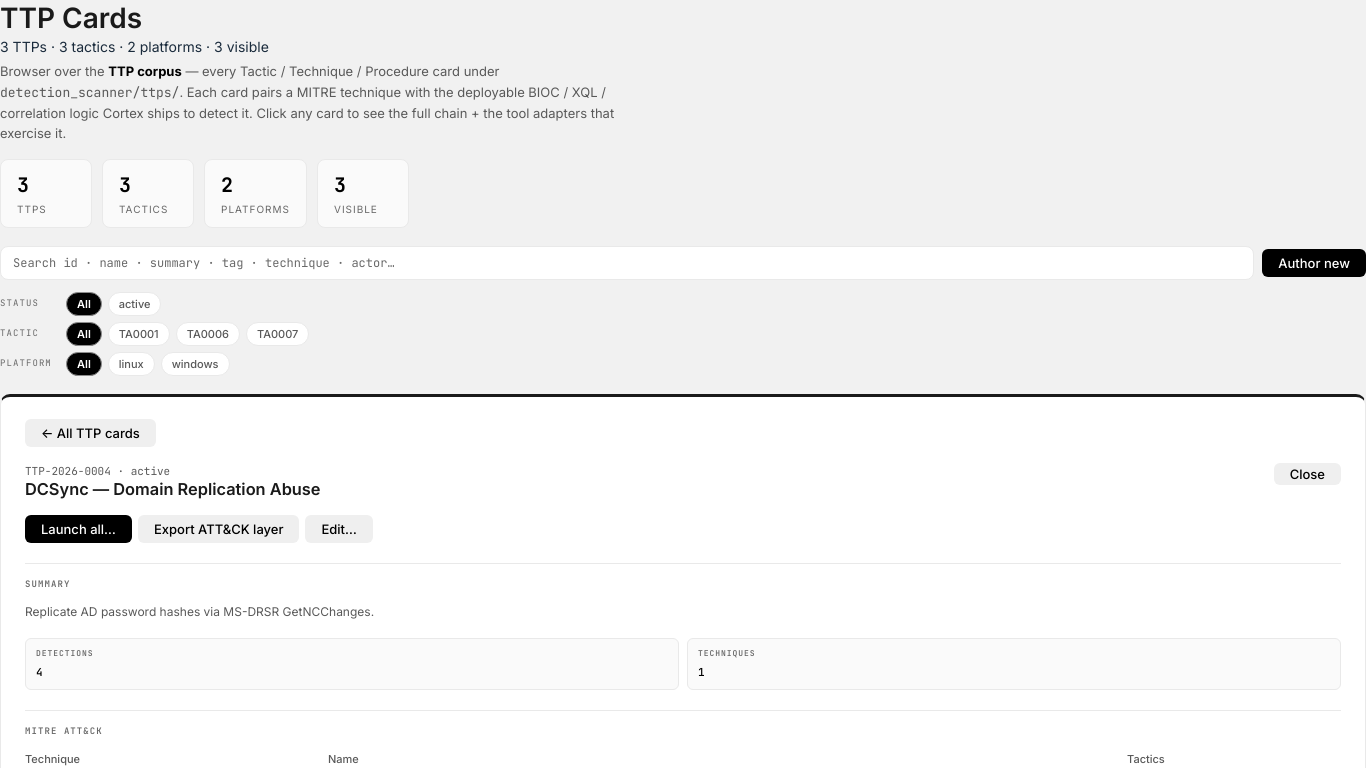
Test: <TtpBrowserView /> › renders the no-scenarios placeholder when no scenarios cite this TTP
Click the button with test id "ttp-launch-all".
click(78, 529)  # box [25, 515, 132, 543]
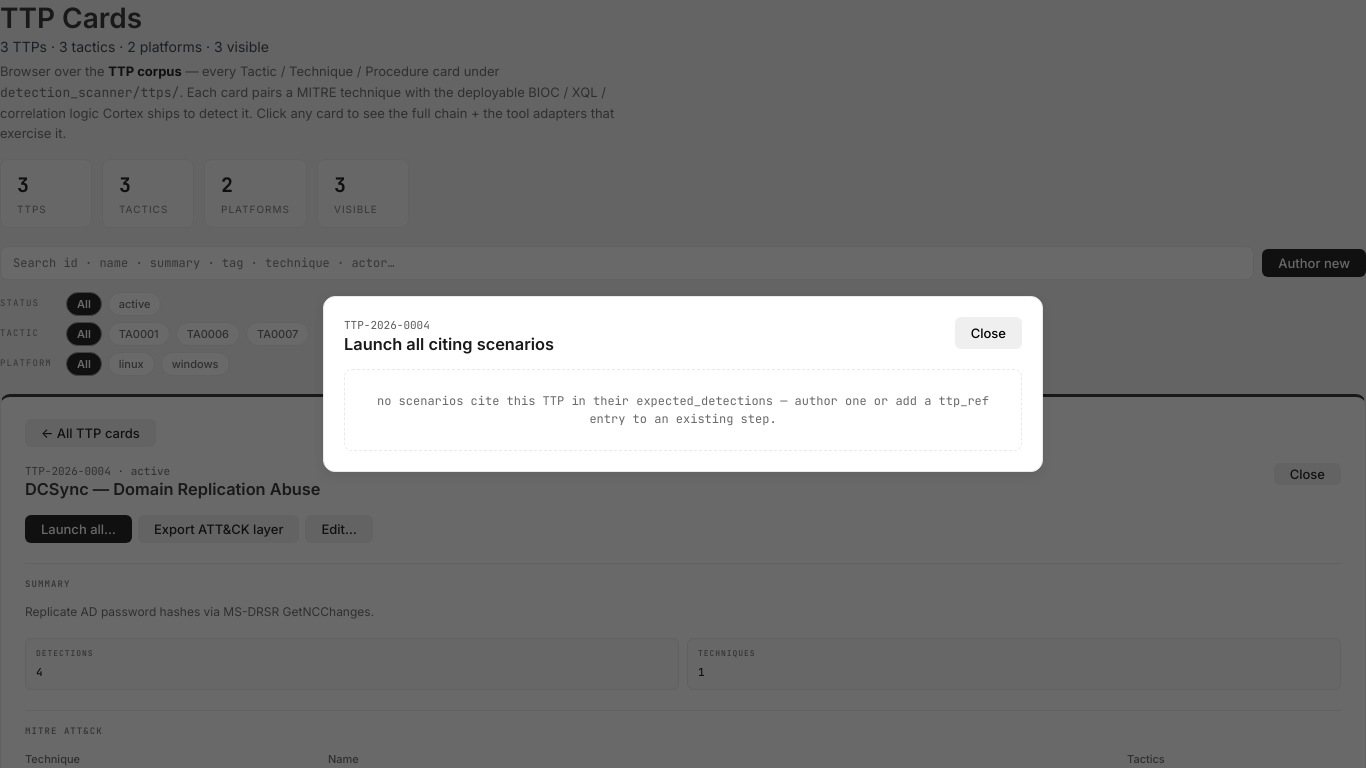
Check: the element with test id "ttp-launcher-empty" is shown, box [344, 369, 1022, 451]
